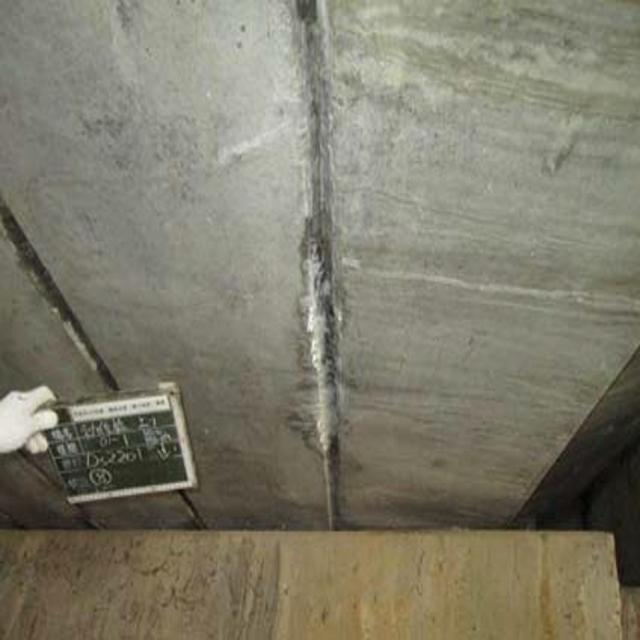freelime: (283, 233, 361, 471)
